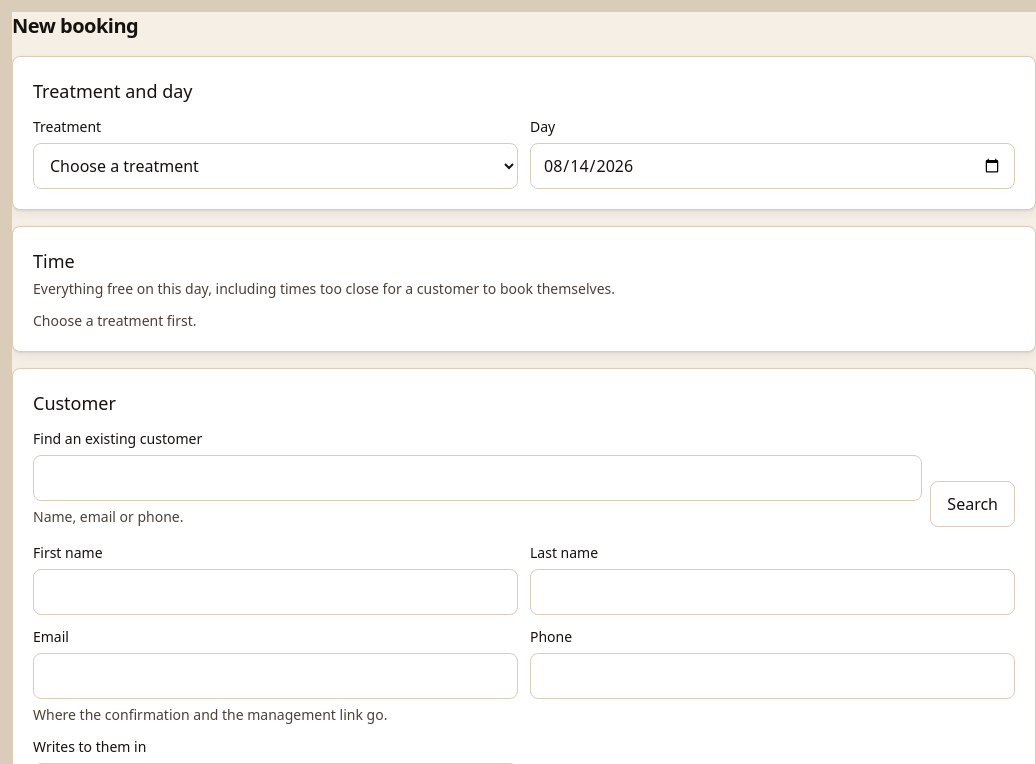
Test: NewBooking › takes its times from the office route, not the public one
Select "Facial Massage 30 · 30 min · 45,00 €" in the dropdown with test id "service". click: (276, 166)
box: [33,143,518,189]
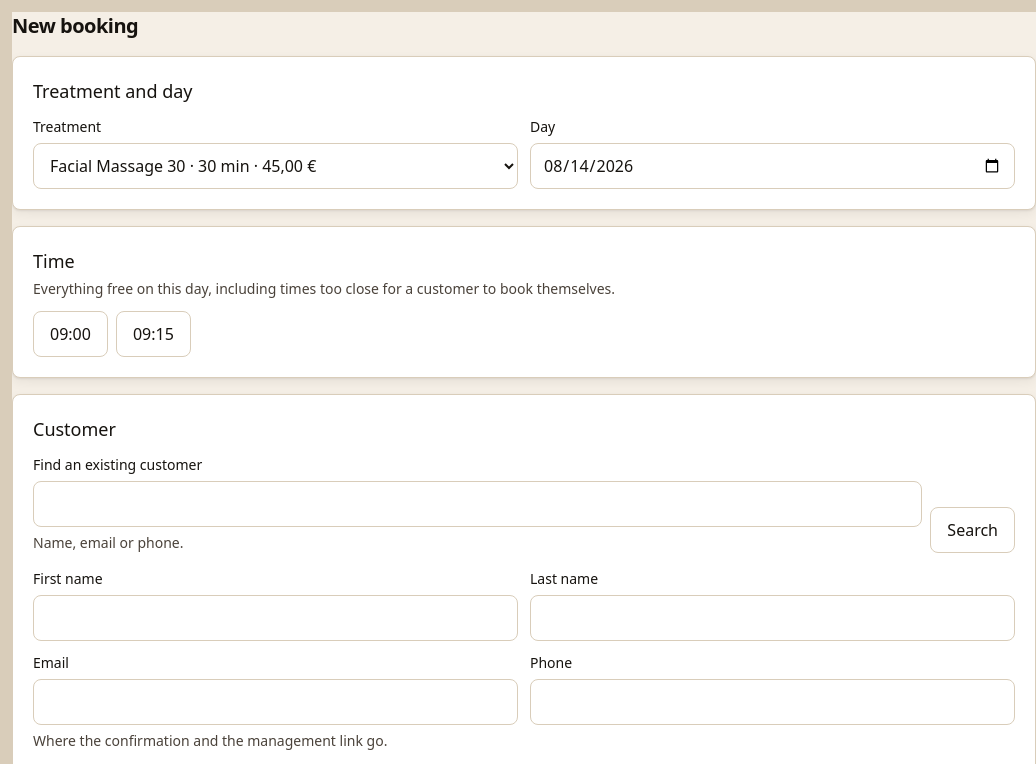
Expected: the number of buttons with test id "slot" is 2, [33,311,108,357]; [116,311,191,357]
